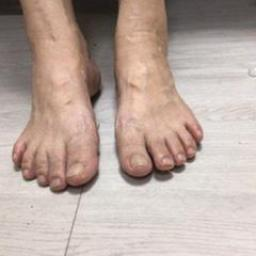Front View -Both Feet-: (6, 1, 214, 207)
